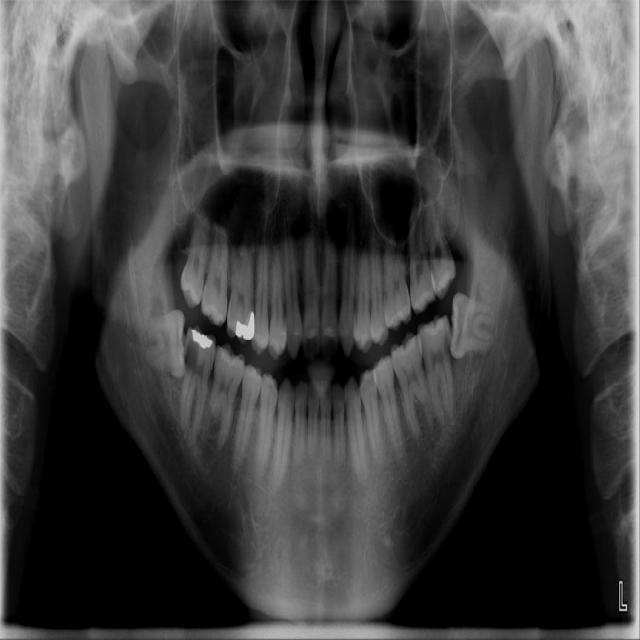Caries: (184, 338, 198, 372), (443, 334, 451, 360)
Filling: (235, 311, 255, 341), (191, 329, 213, 349)
impacted tooth: (138, 310, 185, 377), (451, 293, 500, 355)
